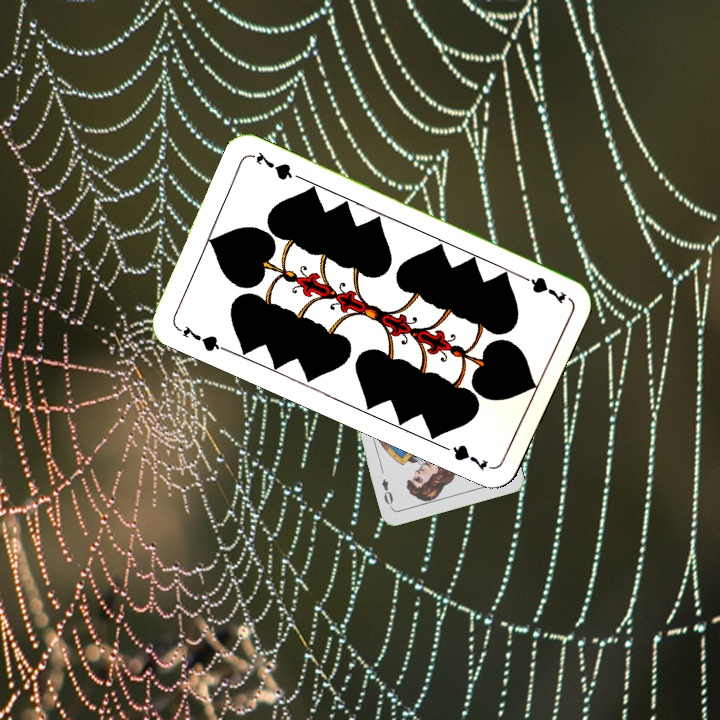G7: (513, 270, 569, 307), (172, 321, 229, 355)
